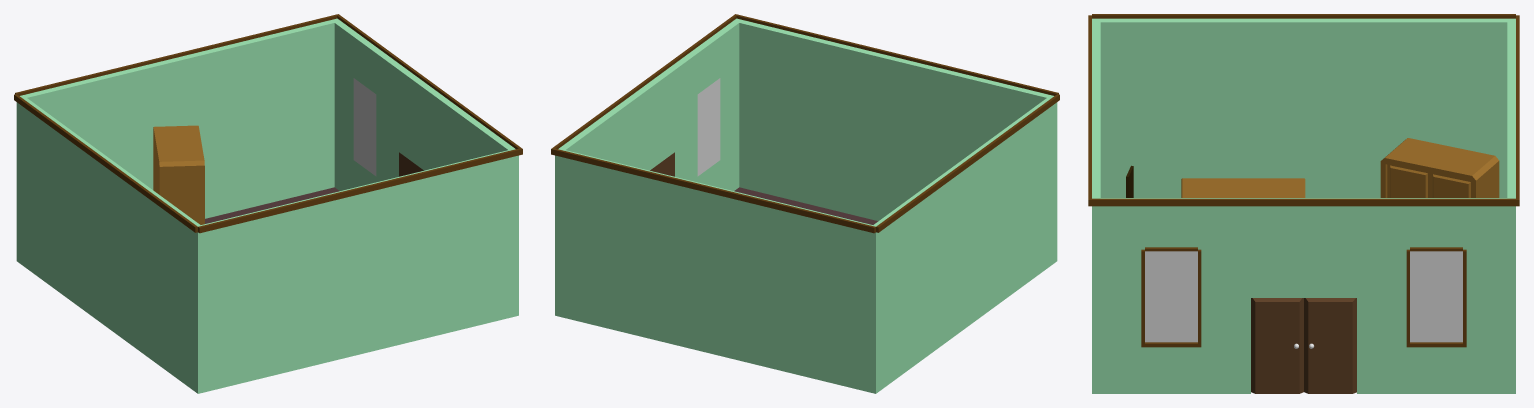
File: InteriorBuilding.fbx
3 renders of one model, left to right at view 1: azimuth 30°, elevation 25°; view 2: azimuth 150°, elevation 25°; view 3: azimuth 270°, elevation 25°, orthographic. The views are drawn at different scales.
Visible parts, largest first — view 1: Cube.163, Cube.149, Cube.153, Cube.151, Cube.154, Cube.150, Cube.152, Cube.155, Cube.141, Cube.148, Cube.143, Cube.145 (+95 smaller); view 2: Cube.141, Cube.145, Cube.143, Cube.146, Cube.142, Cube.144, Cube.156, Cube.147, Cube.149, Cube.151, Cube.153, Cube.152 (+94 smaller); view 3: Cube.163, Sphere, Sphere.001, Cube.022, Cube.004, Cube.003, Cube.011, Cube.134, Cube.135, Cube.136, Cube.137, Cube.138 (+50 smaller).
Part boxes in pixels (x1,y1,x2,y2): Cube.163: (153,125,204,224); Cube.149: (290,14,339,73); Cube.153: (133,54,177,111); Cube.151: (212,35,255,92); Cube.154: (94,64,138,121); Cube.150: (251,26,295,82); Cube.152: (172,45,216,101); Cube.155: (55,74,98,128); Cube.141: (469,148,522,203); Cube.148: (194,217,238,270); Cube.143: (391,169,435,222); Cube.145: (312,188,356,241); Cube.141: (734,14,783,73); Cube.145: (896,54,940,111); Cube.143: (818,35,861,92); Cube.146: (935,64,979,121); Cube.142: (778,26,822,82); Cube.144: (857,45,901,101); Cube.156: (835,217,879,270); Cube.147: (975,74,1018,128); Cube.149: (551,148,604,203); Cube.151: (638,169,682,222); Cube.153: (717,188,761,241); Cube.152: (678,179,722,232); Cube.163: (1380,138,1499,197); Sphere: (1304,298,1356,393); Sphere.001: (1251,298,1303,393); Cube.022: (1406,247,1466,299); Cube.004: (1141,247,1201,299); Cube.003: (1141,298,1201,347); Cube.011: (1406,298,1466,347); Cube.134: (1145,14,1197,70); Cube.135: (1198,14,1250,70); Cube.136: (1251,14,1303,70); Cube.137: (1304,14,1356,70); Cube.138: (1357,14,1409,70).
Bounding box in the file's own units: 2500 × 1220 × 2440.
